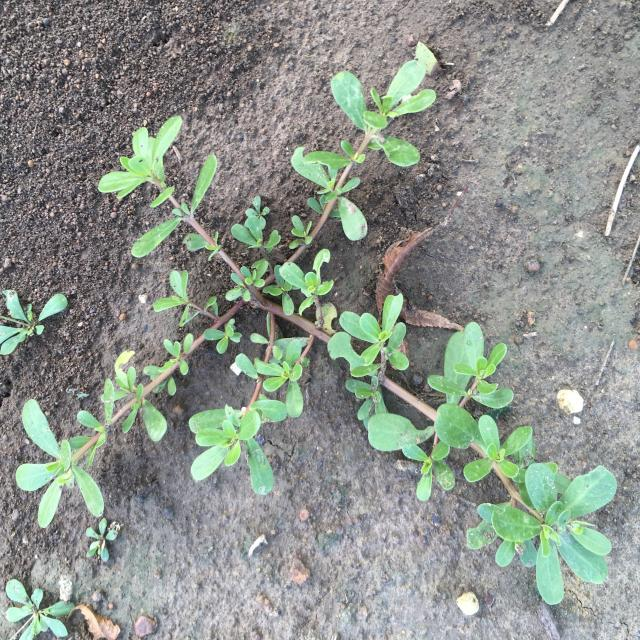Carpetweed: (0, 289, 68, 355), (6, 579, 75, 640), (86, 518, 118, 562)
Purslane: (16, 59, 617, 606)
